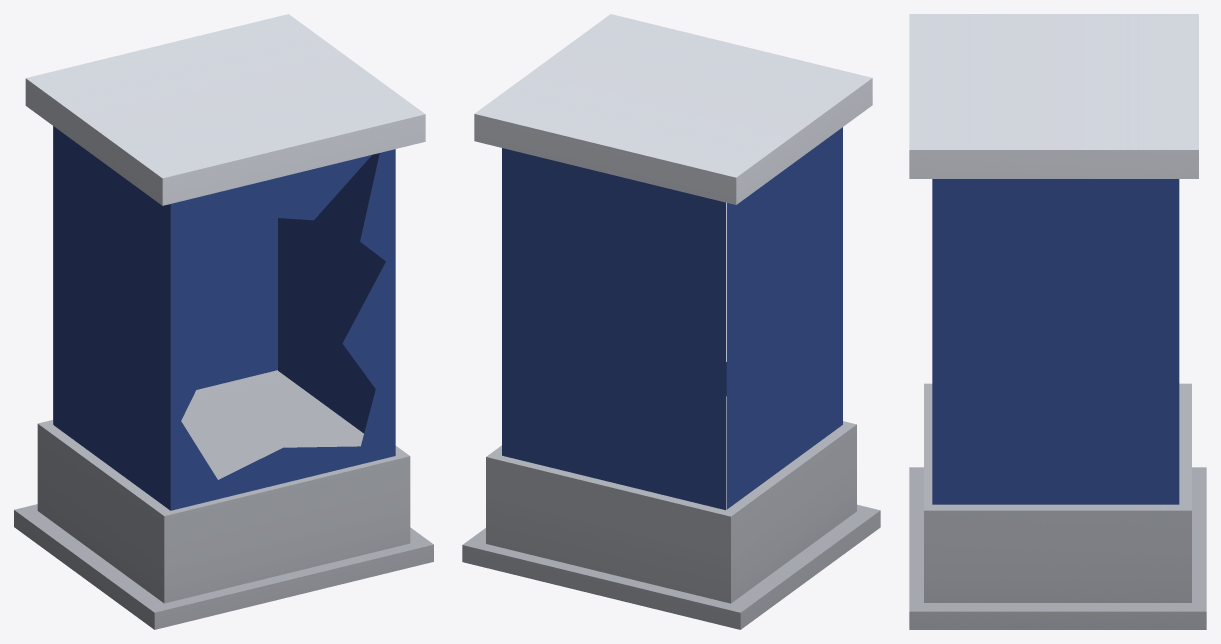
File: glass_broke.fbx
The picture shows the model from 3 angles, left to right: view 1: azimuth 30°, elevation 25°; view 2: azimuth 150°, elevation 25°; view 3: azimuth 270°, elevation 25°; orthographic projection. The views are drawn at different scales.
Visible parts, largest first — view 1: Base, glass_broke; view 2: glass_broke, Base; view 3: Base, glass_broke.
Boxes of the visible parts, left/top/right/bottom form: Base: left=14, top=14, right=433, bottom=629; glass_broke: left=53, top=126, right=395, bottom=510; glass_broke: left=502, top=127, right=842, bottom=510; Base: left=462, top=14, right=880, bottom=629; Base: left=909, top=14, right=1206, bottom=629; glass_broke: left=932, top=179, right=1179, bottom=504.
Bounding box in the file's own units: 28.7 × 44.13 × 25.02.
2 materials, 1 textured.
